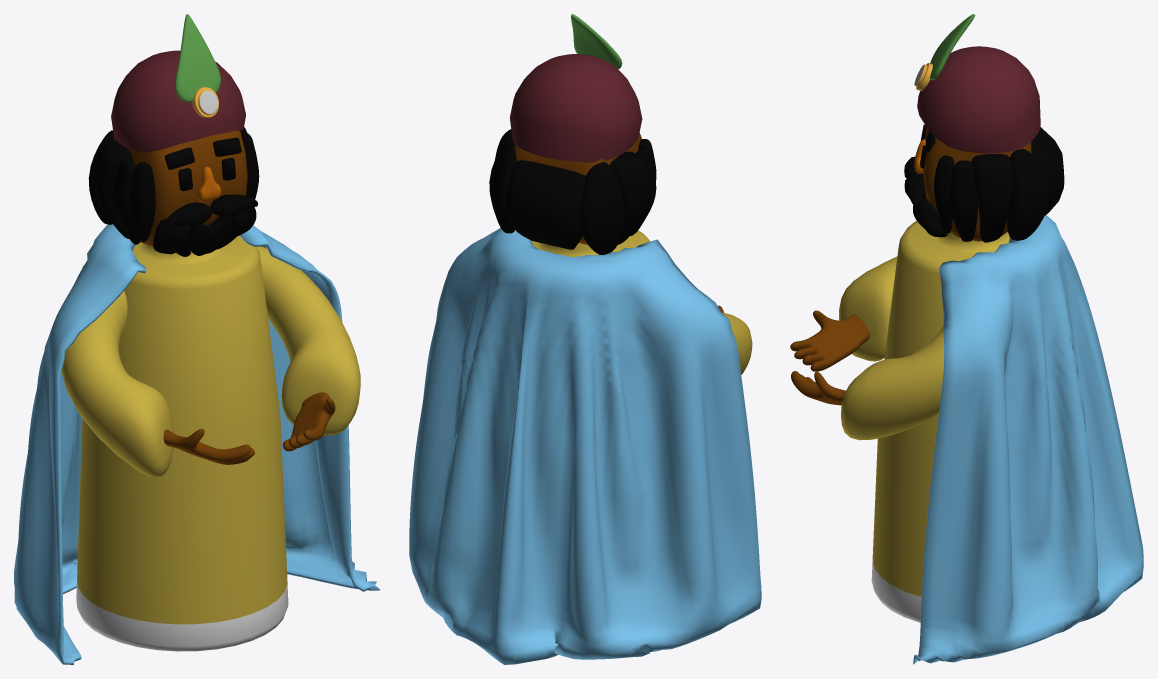
Rendered from Baltasar.fbx.
3 views of the same model, side by side, from view 1: azimuth 30°, elevation 25°; view 2: azimuth 150°, elevation 25°; view 3: azimuth 270°, elevation 25° (orthographic). The views are drawn at different scales.
Parts seen in each view (by area): view 1: Cube.037; view 2: Cube.037; view 3: Cube.037.
Boxes of the visible parts, bbox=[...] form: Cube.037: bbox=[14, 14, 380, 664]; Cube.037: bbox=[409, 14, 761, 664]; Cube.037: bbox=[790, 14, 1143, 664].
Bounding box in the file's own units: 142 × 251 × 139.
